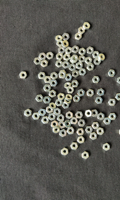nut: (82, 152, 90, 160), (61, 148, 69, 156), (71, 143, 79, 151), (97, 128, 105, 136), (67, 127, 75, 135), (85, 110, 93, 118), (57, 114, 65, 122), (42, 117, 50, 125), (39, 109, 47, 117), (87, 89, 95, 97), (38, 72, 46, 80), (72, 70, 80, 78), (69, 64, 77, 72), (46, 52, 54, 60), (85, 57, 93, 65), (58, 46, 66, 54), (62, 33, 70, 41), (55, 35, 63, 43), (75, 33, 83, 41), (78, 27, 86, 35), (83, 22, 91, 30), (19, 72, 28, 79), (103, 144, 111, 151), (78, 136, 85, 144), (90, 133, 98, 140), (77, 129, 85, 136), (92, 123, 100, 130), (60, 130, 67, 138), (53, 126, 60, 134), (78, 120, 86, 127), (64, 121, 72, 128), (104, 118, 112, 125), (109, 113, 117, 120), (98, 113, 105, 121), (49, 113, 56, 121), (25, 109, 32, 117), (46, 107, 54, 114), (54, 108, 61, 116), (49, 103, 57, 110), (55, 100, 63, 107), (62, 102, 70, 109), (43, 97, 51, 104), (36, 95, 44, 102), (64, 98, 72, 105), (49, 90, 56, 98), (74, 95, 81, 103), (78, 89, 85, 97), (109, 99, 117, 106), (67, 87, 75, 94), (65, 82, 72, 90), (50, 80, 58, 87), (108, 70, 116, 77), (44, 77, 52, 84), (51, 72, 58, 80), (65, 74, 73, 81), (59, 72, 67, 79), (79, 69, 87, 76), (87, 64, 95, 71), (76, 62, 83, 70), (63, 61, 70, 69), (56, 60, 63, 68), (41, 60, 48, 68), (34, 58, 42, 65), (98, 54, 106, 61), (87, 47, 94, 55), (72, 55, 79, 63), (79, 48, 86, 56), (56, 53, 64, 60), (72, 46, 79, 54), (86, 127, 93, 134), (71, 118, 78, 125), (51, 121, 58, 128), (92, 110, 99, 117), (76, 112, 83, 119), (66, 112, 73, 119), (33, 113, 40, 120), (58, 94, 65, 101), (44, 85, 51, 92), (96, 97, 103, 104), (98, 89, 105, 96), (72, 81, 79, 88), (93, 77, 100, 84), (60, 70, 67, 77), (39, 53, 46, 60), (79, 56, 86, 63), (93, 51, 100, 58), (70, 57, 77, 64), (64, 54, 71, 61), (66, 47, 73, 54), (62, 41, 69, 48), (94, 59, 102, 65), (59, 122, 65, 129), (66, 95, 73, 101), (57, 41, 63, 47), (116, 93, 120, 101), (117, 77, 120, 84), (119, 128, 120, 136)
